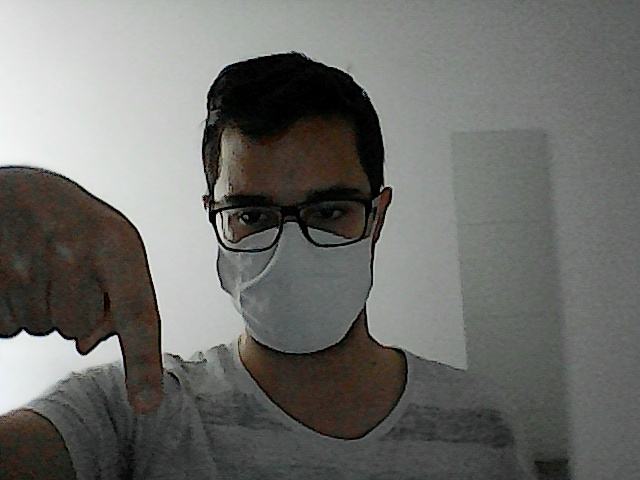down: (1, 151, 172, 423)
